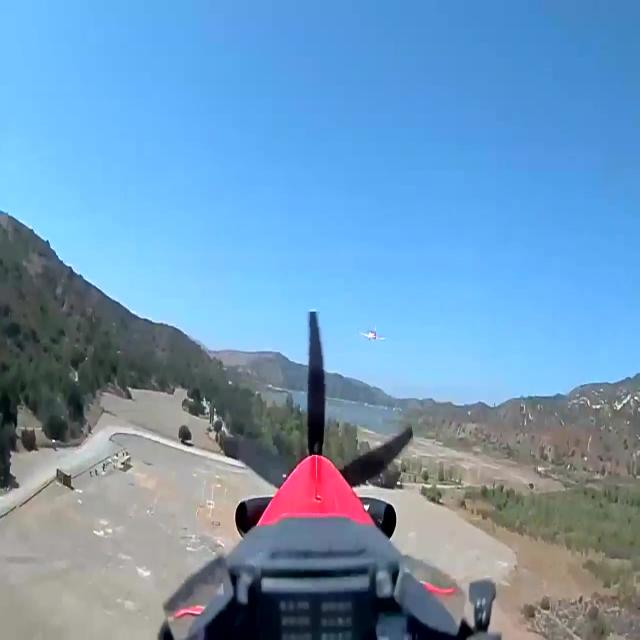iha: (357, 321, 386, 345)
